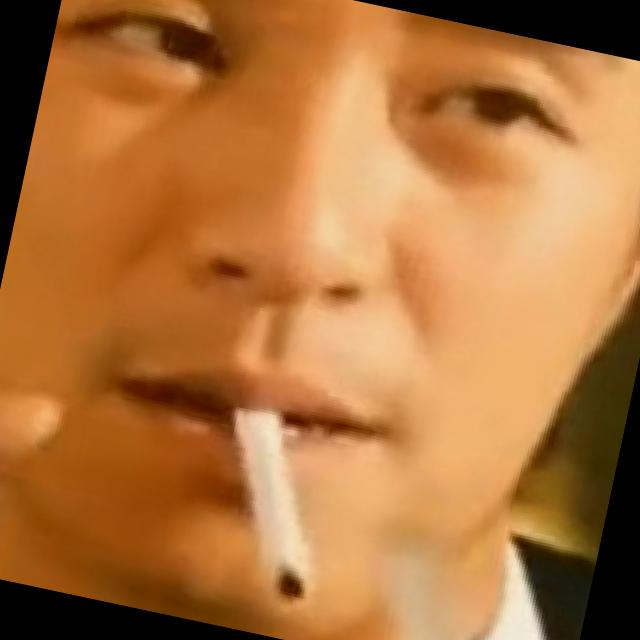cigarette: (190, 412, 348, 614)
